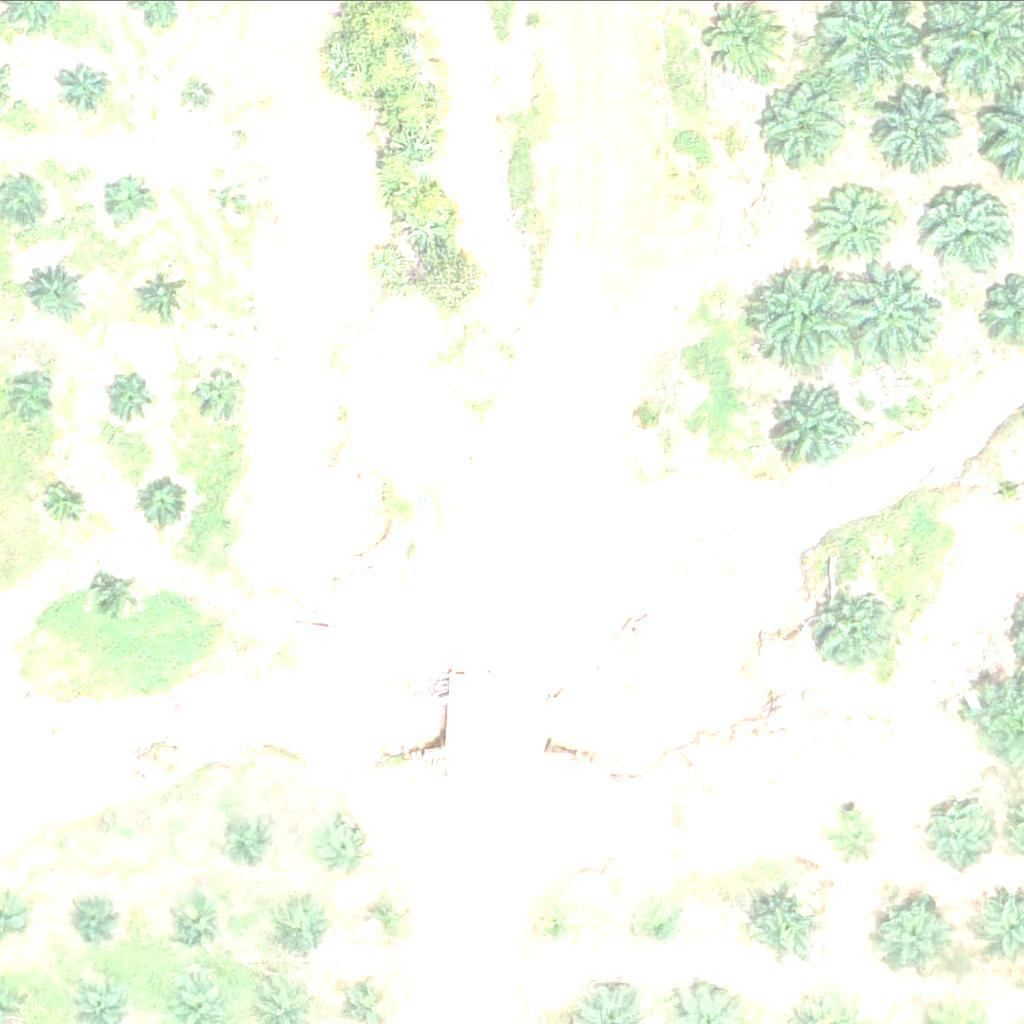Kelapa_Sawit: (843, 262, 944, 362), (750, 266, 851, 366), (877, 886, 965, 974), (760, 75, 848, 163), (815, 182, 903, 270), (928, 185, 1016, 273), (775, 383, 863, 471), (816, 585, 904, 672), (879, 82, 967, 169), (752, 891, 828, 966), (915, 789, 991, 864), (267, 890, 330, 953), (30, 261, 93, 324), (162, 891, 225, 953), (824, 797, 887, 859), (358, 890, 409, 940), (97, 176, 148, 226), (3, 369, 54, 419), (101, 369, 152, 419), (140, 269, 191, 319), (63, 61, 113, 111), (73, 887, 123, 937), (141, 478, 191, 528), (324, 819, 374, 869), (219, 809, 269, 859), (532, 897, 582, 947), (639, 901, 689, 951), (202, 367, 252, 417), (37, 475, 87, 525), (93, 566, 143, 616), (183, 80, 208, 105), (217, 175, 242, 200)
